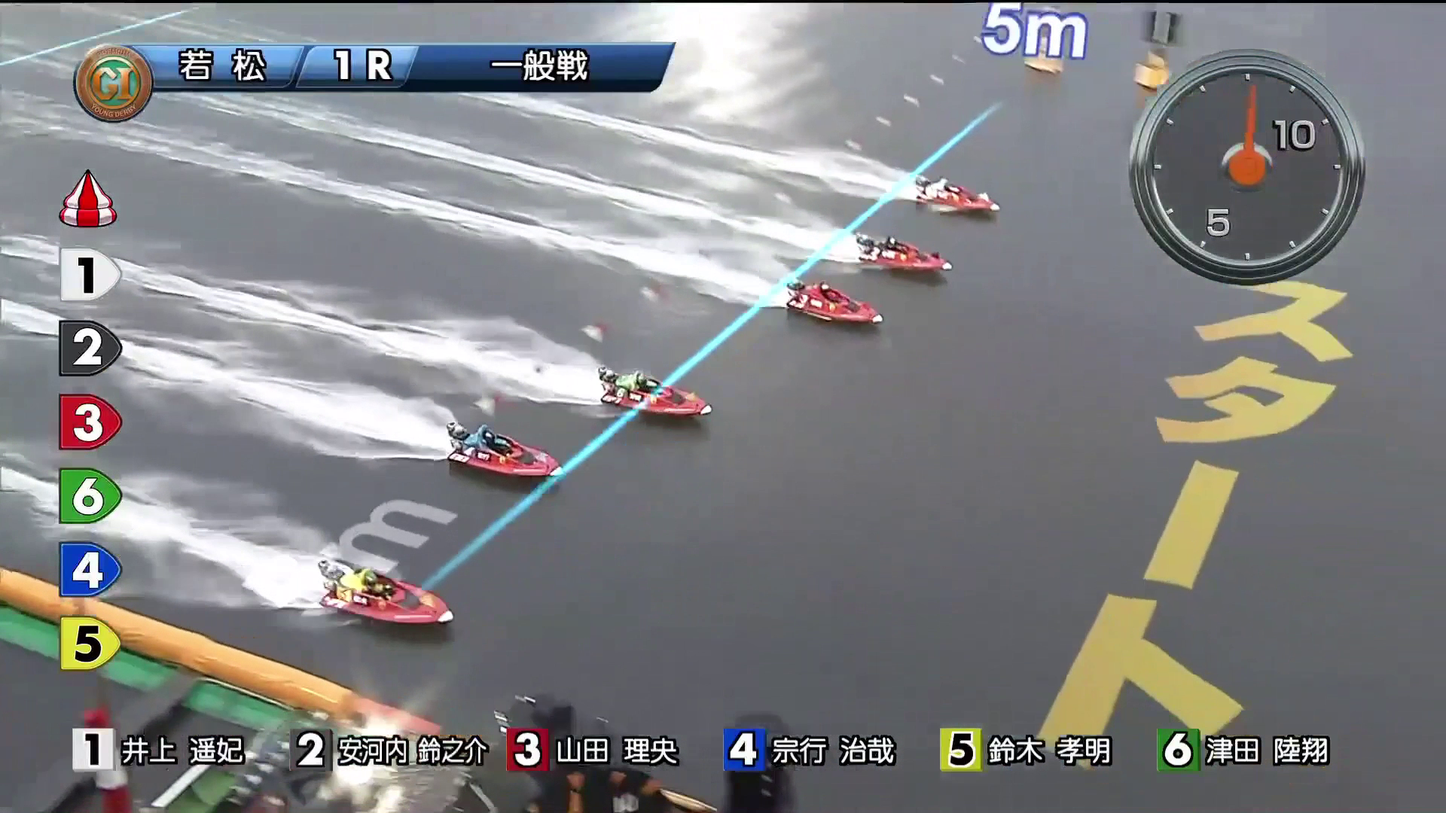１号艇: (870, 185, 946, 232)
２号艇: (869, 244, 931, 282)
３号艇: (802, 287, 857, 328)
４号艇: (633, 376, 697, 419)
５号艇: (498, 454, 566, 492)
６号艇: (415, 601, 480, 647)
